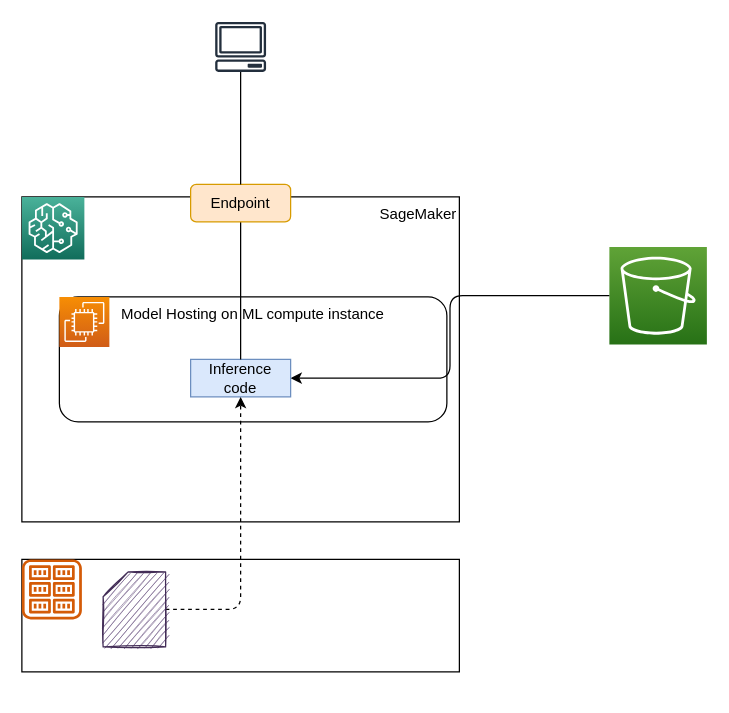
This 729x713 diagram has some shape labels left out. Here are the shapes that lost their labels. From the top down, the centre of each, then its label:
the point at 657,295: Models
the point at 134,609: Code Image
